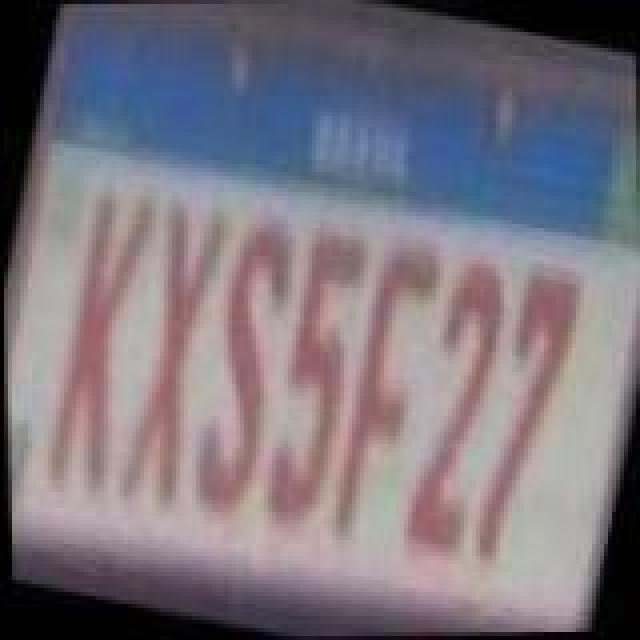2: (386, 248, 530, 568)
5: (246, 220, 390, 544)
7: (456, 254, 596, 578)
F: (314, 234, 458, 558)
K: (24, 184, 176, 512)
S: (172, 204, 316, 532)
X: (96, 182, 248, 526)
